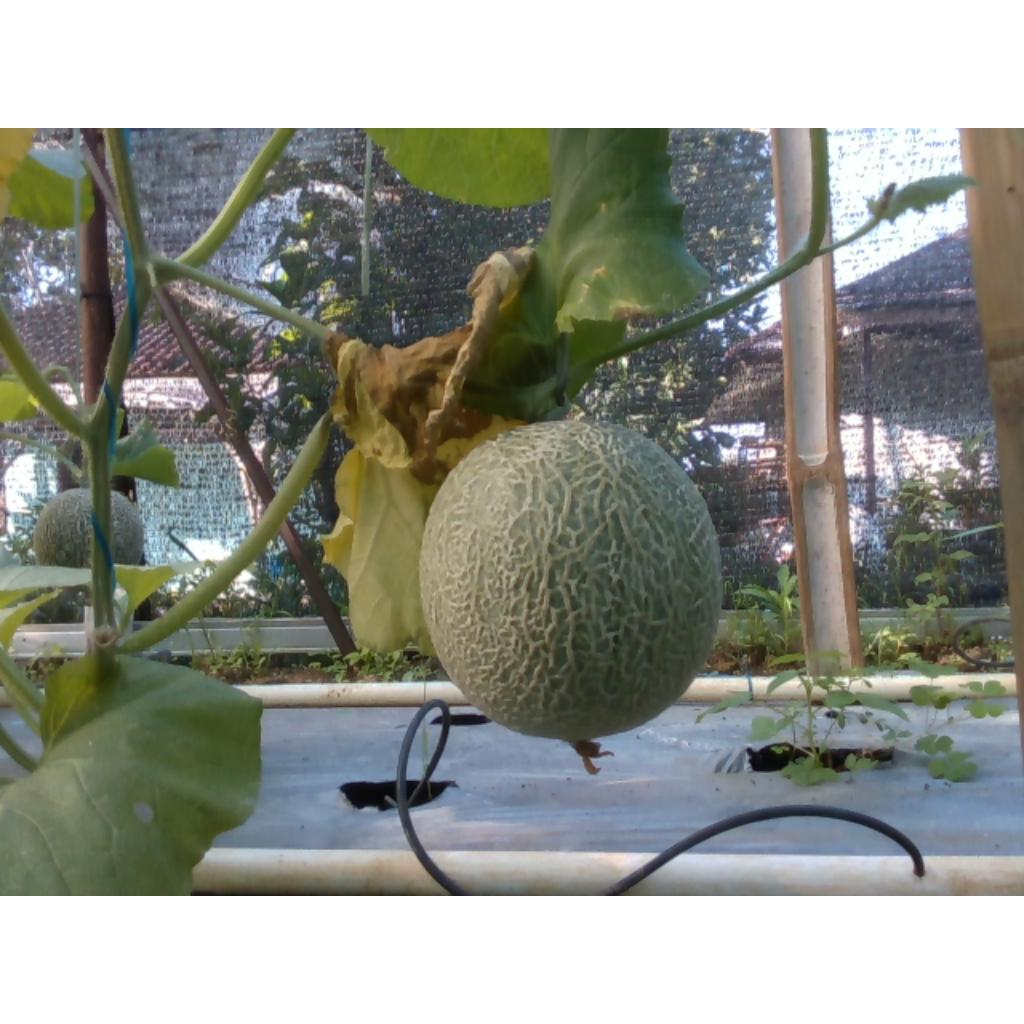melon: (422, 422, 723, 742)
